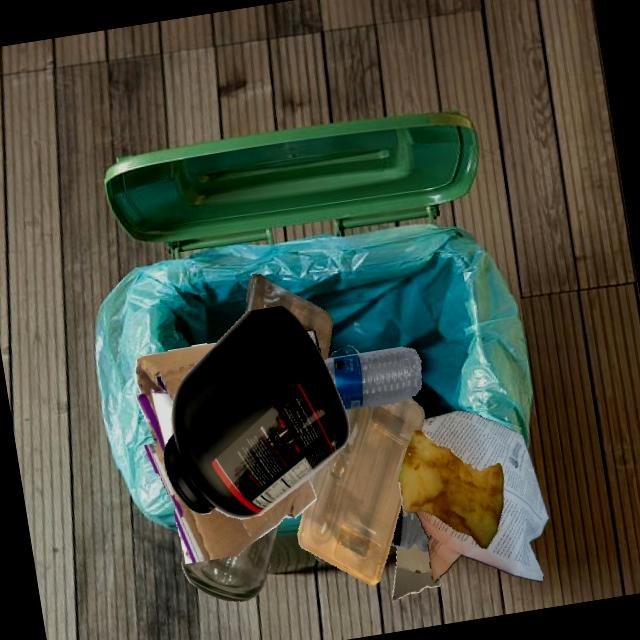biowaste: (398, 430, 504, 548)
cardboard: (135, 343, 316, 564), (392, 545, 441, 601), (306, 330, 322, 356)
glass: (181, 522, 280, 601), (309, 474, 314, 483), (268, 562, 271, 571)
paper: (415, 411, 549, 583)
plastic: (164, 305, 350, 519), (297, 397, 425, 586), (244, 274, 333, 361), (324, 347, 421, 410), (391, 502, 429, 553), (328, 345, 359, 359), (311, 553, 327, 562)
